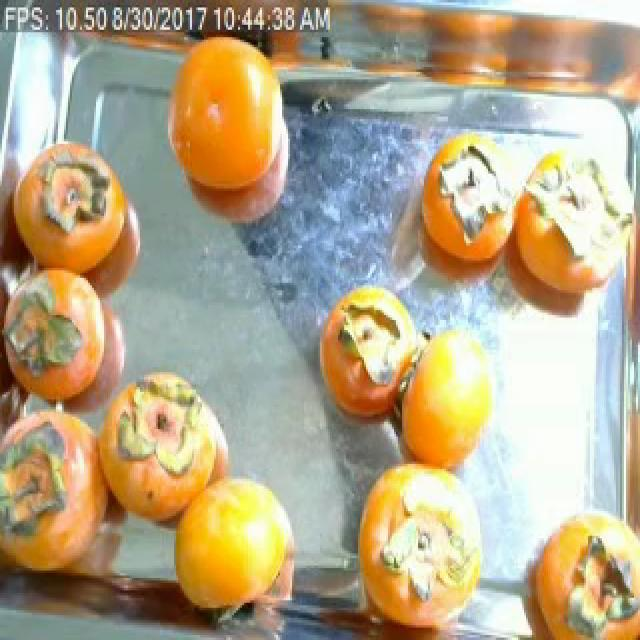Fruit: (150, 15, 292, 218), (386, 310, 508, 494), (308, 273, 428, 422)
